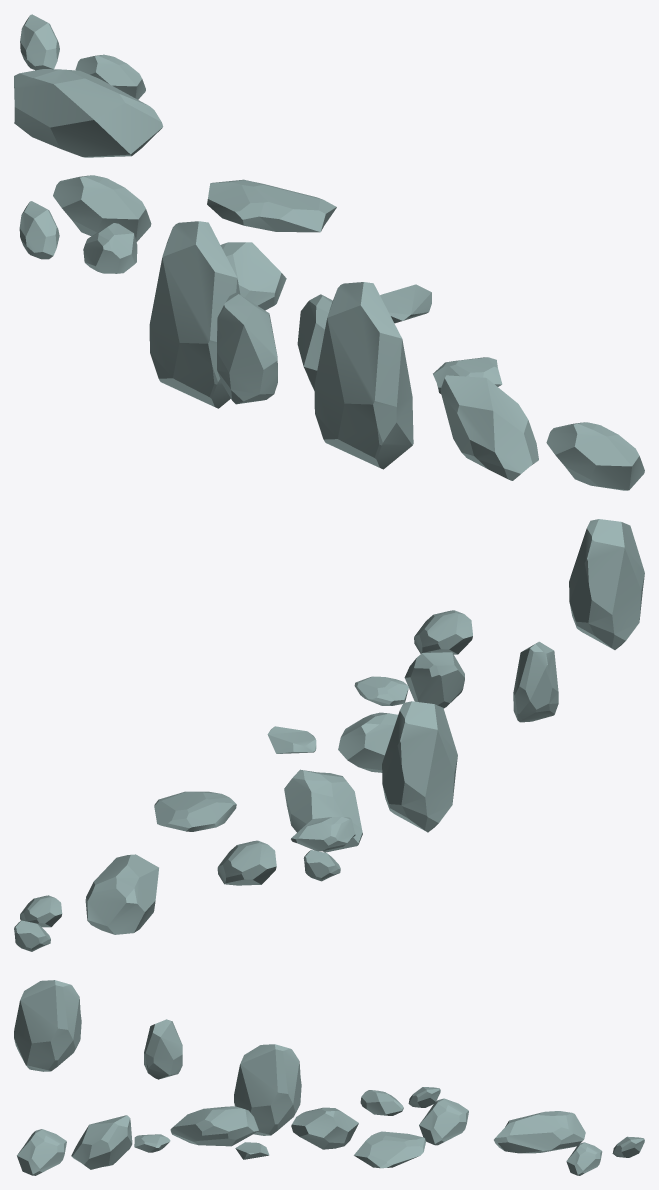
Rendered from ExtendRock.fbx.
The picture shows the model from 3 angles, top to bottom: view 1: azimuth 30°, elevation 25°; view 2: azimuth 150°, elevation 25°; view 3: azimuth 270°, elevation 25°; orthographic projection. The views are drawn at different scales.
Visible parts, largest first — view 1: MainStage_Rock_1.001; view 2: MainStage_Rock_1.001; view 3: MainStage_Rock_1.001.
Part boxes in pixels (x1=…): MainStage_Rock_1.001: x1=14, y1=14, x2=644, y2=490; MainStage_Rock_1.001: x1=14, y1=519, x2=644, y2=951; MainStage_Rock_1.001: x1=14, y1=980, x2=644, y2=1175.
Bounding box in the file's own units: 10497 × 8509 × 33494.
